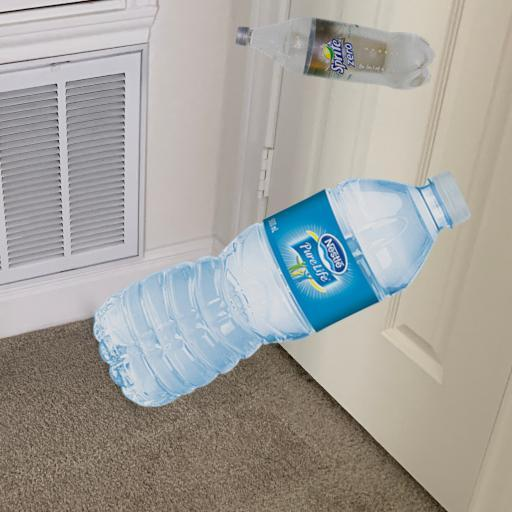bottle: (82, 159, 476, 416), (228, 10, 433, 107)
